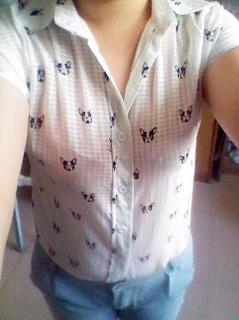trousers: (30, 229, 196, 319)
